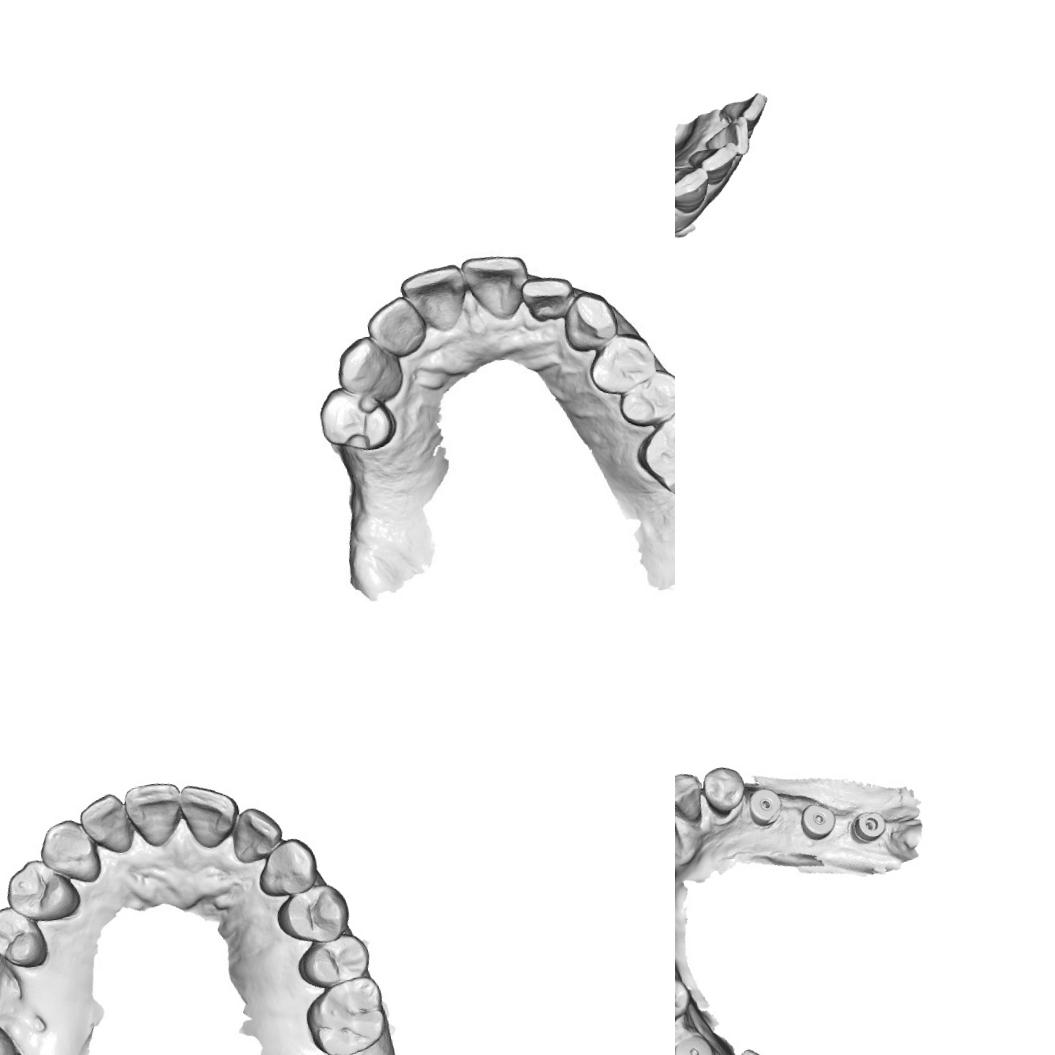canine: (328, 329, 406, 406), (34, 814, 106, 891), (250, 833, 324, 901), (555, 286, 620, 355), (675, 162, 714, 217), (675, 769, 708, 828)
implant: (796, 798, 840, 843), (744, 784, 786, 830), (848, 808, 889, 846), (675, 1031, 717, 1055)
incisor: (399, 260, 475, 340), (176, 776, 246, 853), (120, 777, 190, 853), (462, 248, 531, 325), (365, 294, 428, 363), (75, 789, 136, 860), (226, 801, 288, 866), (514, 271, 577, 326), (686, 140, 743, 188), (716, 90, 772, 136), (700, 114, 752, 162)
molar: (298, 971, 393, 1055), (627, 399, 675, 500)
premolar: (0, 852, 84, 930), (271, 880, 355, 952), (318, 386, 398, 459), (291, 928, 375, 993), (584, 332, 655, 396), (0, 899, 51, 976), (615, 366, 675, 431), (699, 762, 750, 821), (675, 967, 696, 1035)
